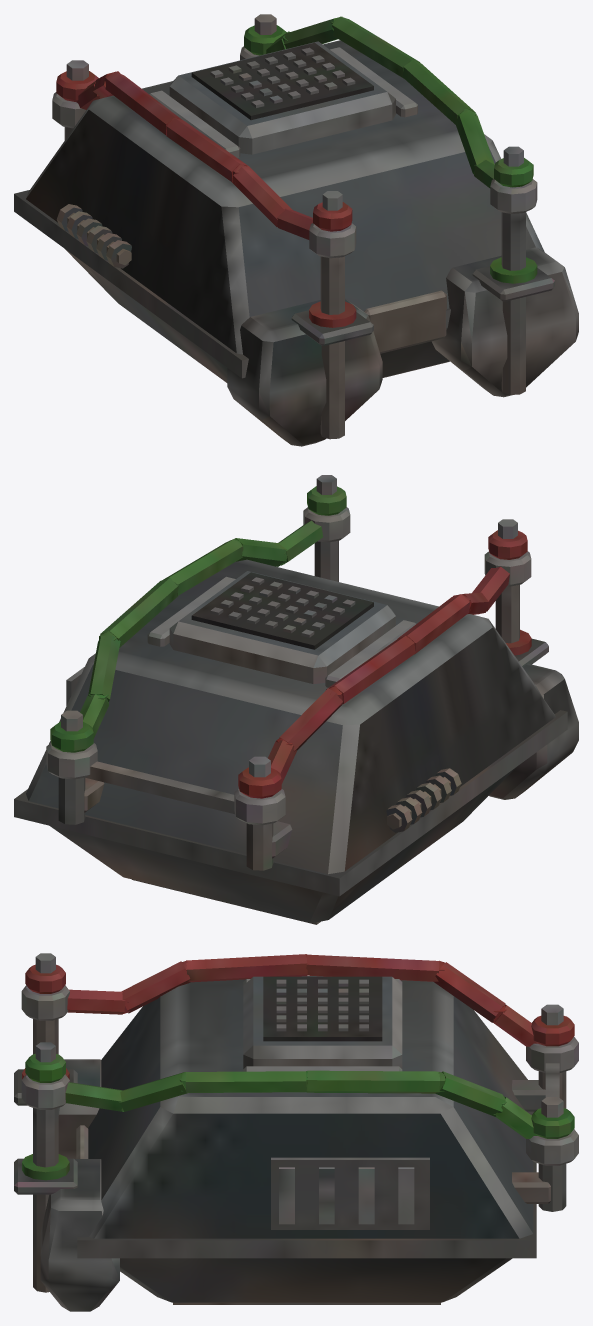
Rendered from arithmetic-combinator.glb.
3 views of the same model, one above another, from view 1: azimuth 30°, elevation 25°; view 2: azimuth 150°, elevation 25°; view 3: azimuth 270°, elevation 25° (orthographic).
Parts seen in each view (by area): view 1: body; view 2: body; view 3: body.
Boxes of the visible parts, x1,y1,x2,y2 form: body: [14, 14, 578, 446]; body: [14, 475, 578, 924]; body: [14, 953, 578, 1311].
Size of the model in its own units: 1 by 0.72 by 1.42.
Materials: 1 (1 with a texture image).
